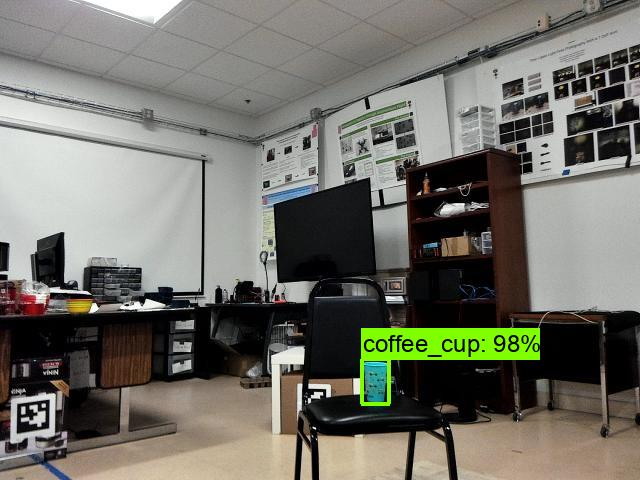coffee_cup: (360, 360, 390, 405)
